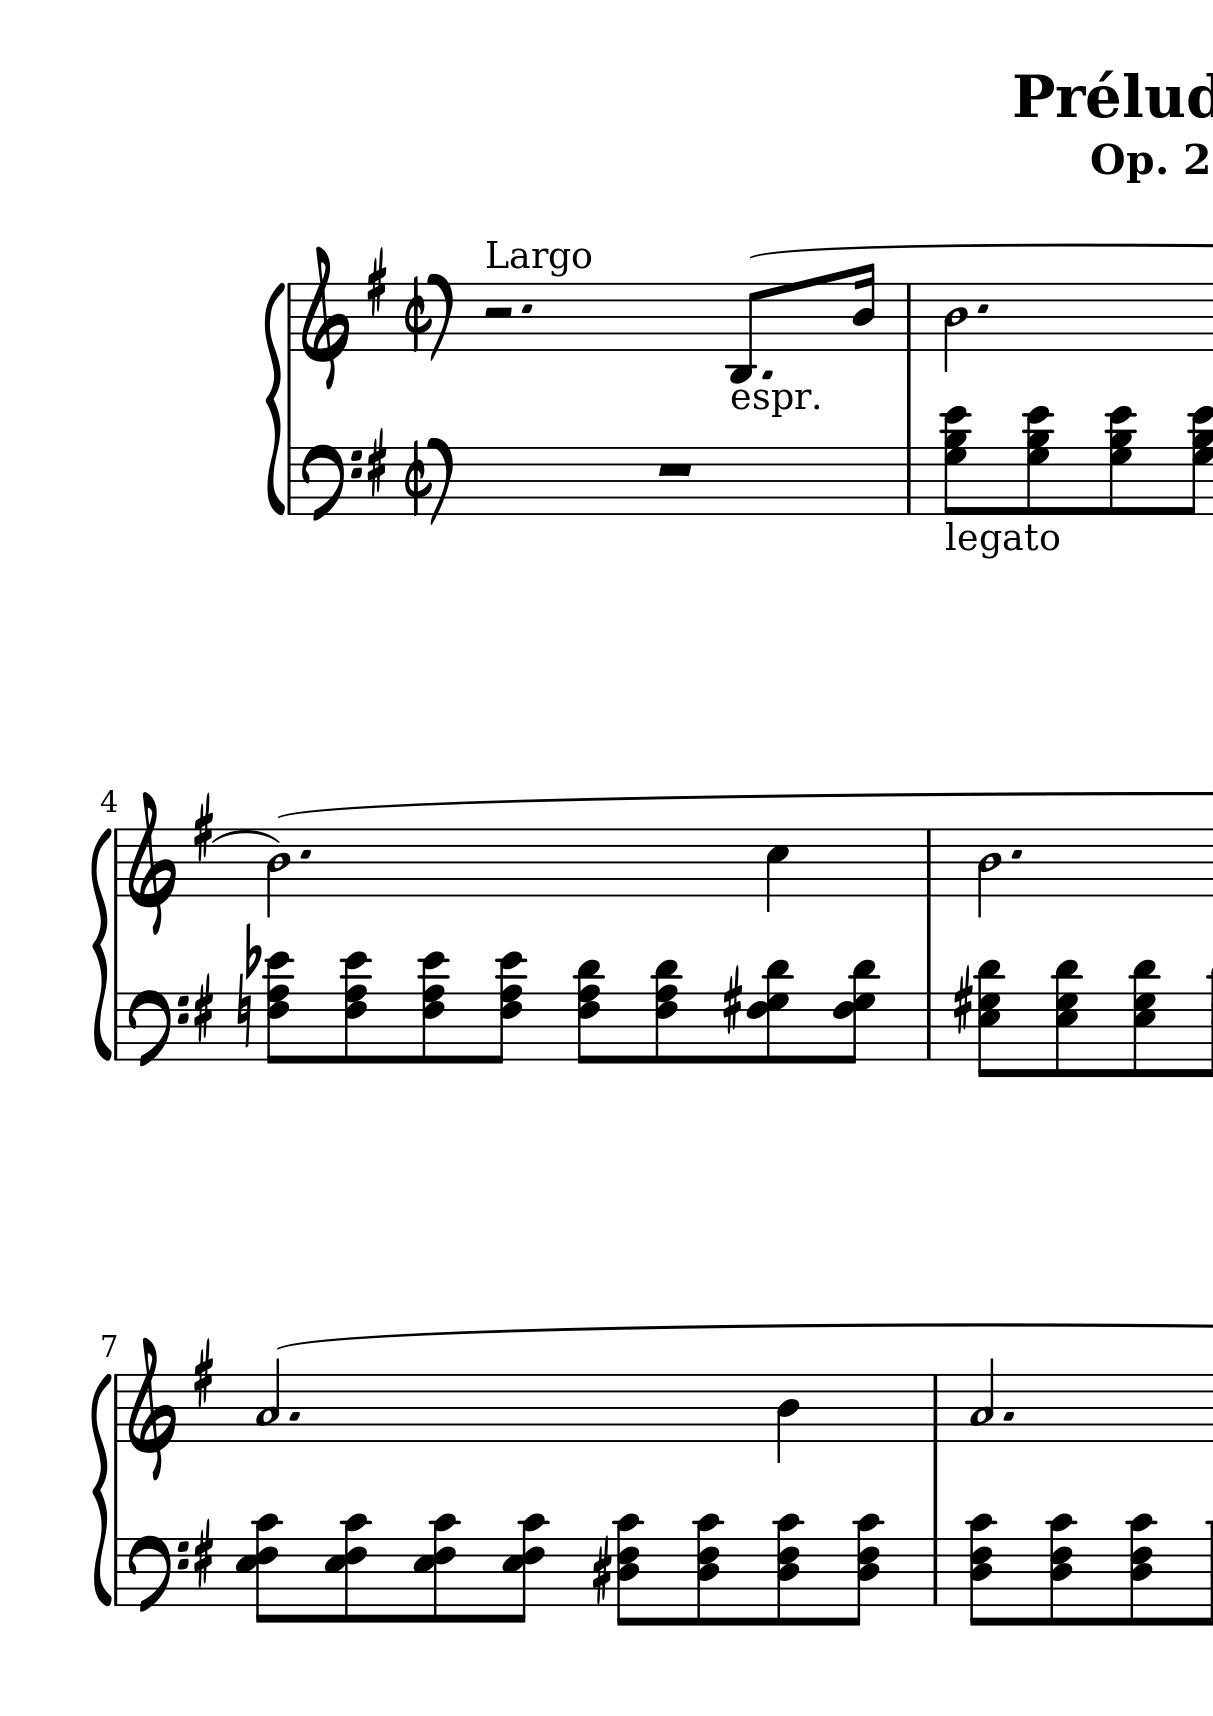16_4: (851, 261, 877, 353)
2_3: (253, 1356, 282, 1446), (968, 1356, 995, 1446)
2_4: (975, 825, 1004, 919), (264, 826, 293, 918), (941, 281, 969, 374)
4: (98, 786, 119, 817)
4_4: (773, 1372, 801, 1465)
4_5: (764, 826, 792, 914)
7: (98, 1330, 118, 1360)
8_-3: (726, 280, 759, 383)
8_th: (500, 1512, 547, 1627), (414, 1512, 461, 1625), (830, 958, 880, 1065), (238, 1512, 285, 1624), (324, 1512, 372, 1624), (746, 958, 794, 1066), (843, 1511, 883, 1629), (488, 951, 529, 1063), (1126, 956, 1162, 1081), (965, 1511, 1002, 1628), (613, 1512, 650, 1629), (337, 951, 374, 1066), (1044, 1512, 1080, 1628), (691, 1511, 726, 1629), (1050, 957, 1084, 1079), (771, 1511, 806, 1628), (416, 951, 452, 1066), (1124, 1511, 1159, 1627), (974, 957, 1007, 1081), (1104, 404, 1139, 519), (263, 949, 297, 1065), (939, 404, 974, 515), (1021, 404, 1055, 515), (649, 956, 683, 1066), (572, 957, 606, 1065), (1183, 404, 1213, 515)
Brace: (263, 280, 285, 517), (89, 1371, 112, 1607), (91, 825, 112, 1061)
Fclef: (125, 1534, 190, 1618), (125, 989, 189, 1071), (299, 442, 364, 524)
Flat: (242, 923, 261, 978)
Gclef: (125, 1334, 180, 1481), (125, 789, 179, 936), (299, 244, 351, 390)
Natural: (232, 973, 252, 1049)
Rests1: (652, 458, 694, 481)
Rests2: (480, 305, 515, 322)
Sharp: (190, 1516, 219, 1593), (587, 1536, 613, 1610), (192, 792, 217, 865), (190, 1337, 215, 1409), (364, 246, 389, 316), (950, 964, 975, 1035), (190, 973, 214, 1045), (365, 427, 389, 498), (722, 966, 744, 1037)
Single_barline: (919, 830, 939, 895), (920, 993, 939, 1060), (926, 1375, 944, 1442), (926, 1537, 944, 1604), (901, 448, 918, 515), (901, 285, 918, 351), (109, 1375, 123, 1446), (109, 1540, 123, 1604), (284, 284, 297, 352), (110, 994, 123, 1058), (112, 828, 123, 899), (284, 448, 295, 513)
Slur: (209, 828, 281, 847)
TimeSig: (398, 437, 429, 515), (400, 274, 431, 351)
dot: (1008, 846, 1025, 863), (974, 301, 992, 316), (519, 301, 536, 316), (1002, 1409, 1016, 1425), (286, 1409, 301, 1423), (761, 366, 775, 382), (298, 849, 312, 863)
